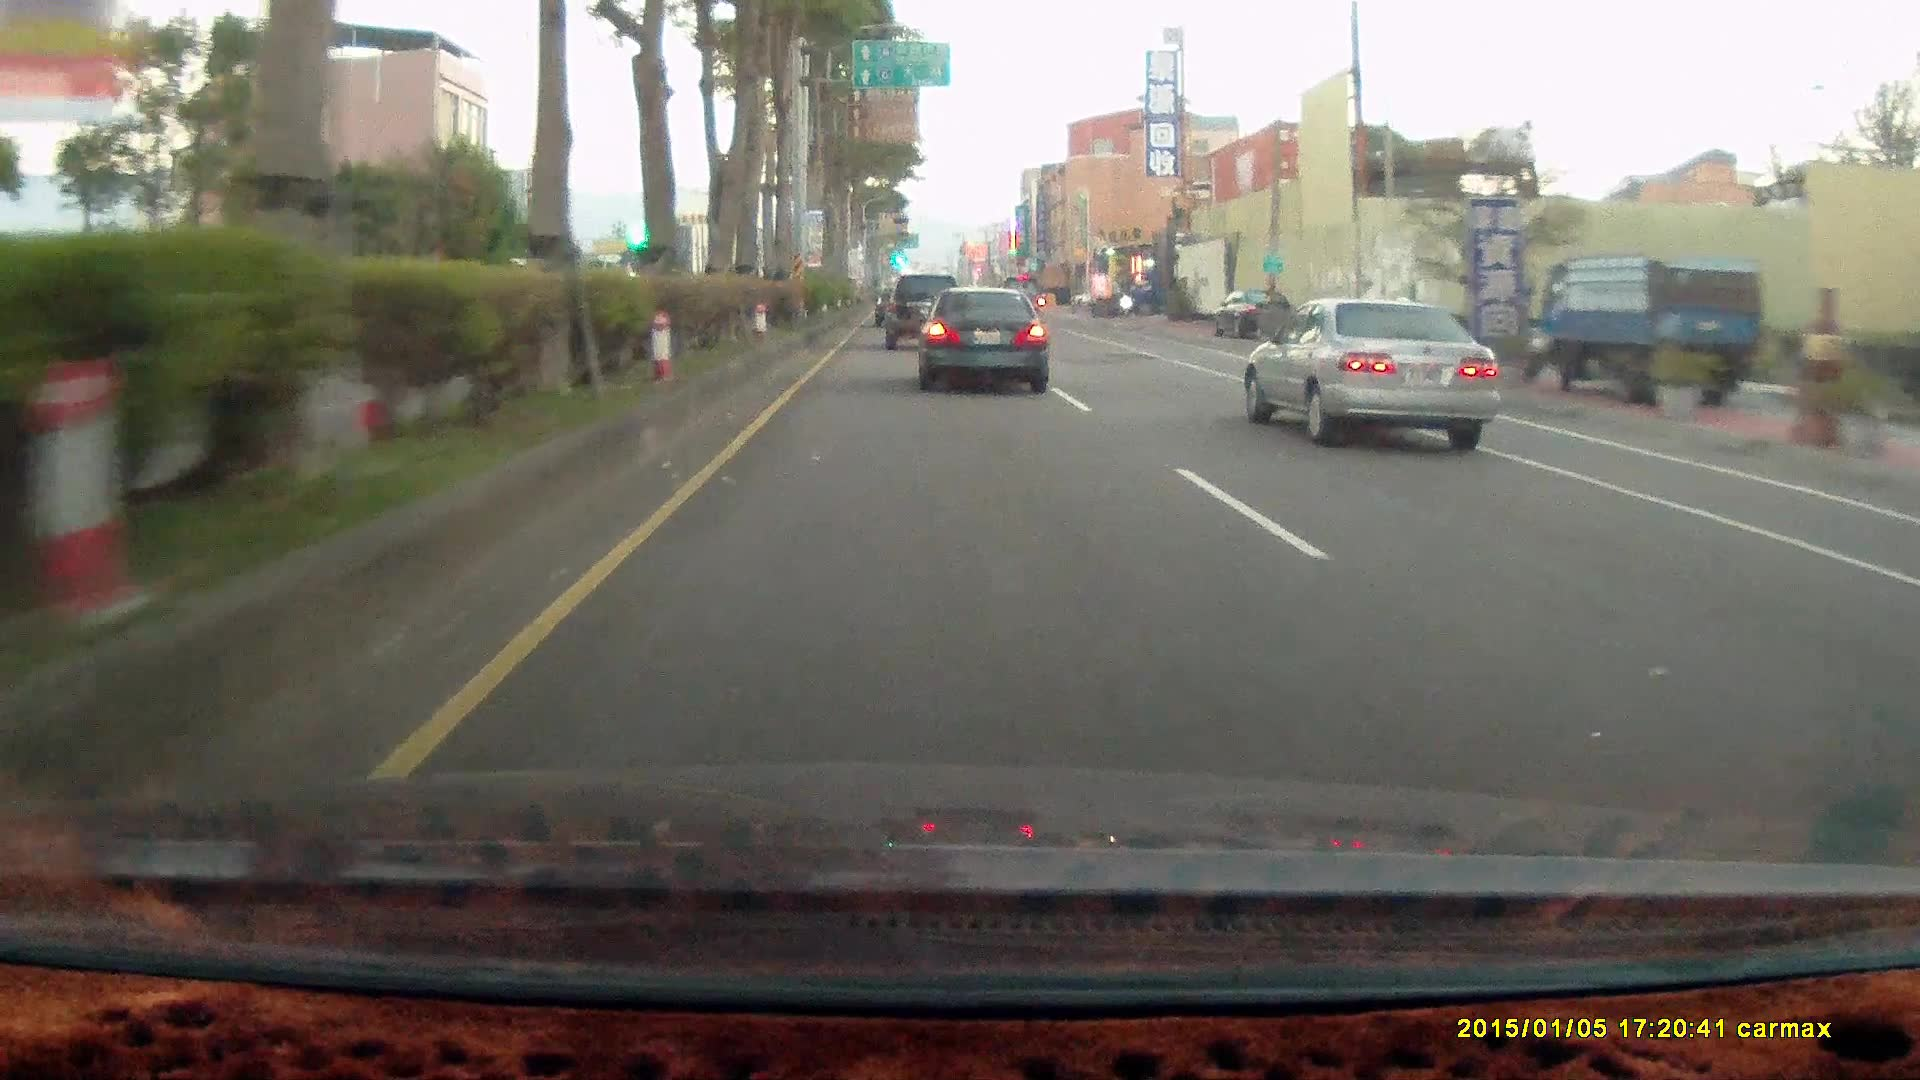vehicle: (1250, 299, 1515, 455), (1241, 295, 1501, 452), (1530, 251, 1772, 411), (1536, 251, 1762, 406), (914, 284, 1048, 390), (918, 289, 1050, 394), (884, 272, 964, 349), (1213, 291, 1298, 343), (1118, 269, 1192, 315)
